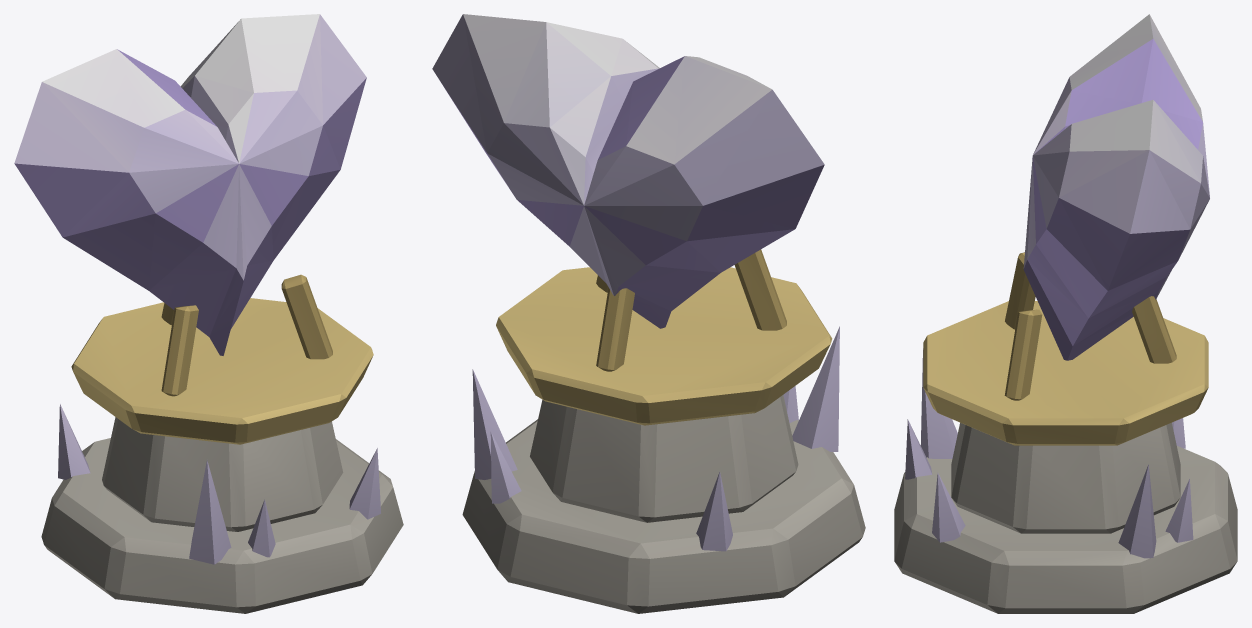
Rendered from crystal-heart.low.glb.
The picture shows the model from 3 angles, left to right: view 1: azimuth 30°, elevation 25°; view 2: azimuth 150°, elevation 25°; view 3: azimuth 270°, elevation 25°; orthographic projection. The views are drawn at different scales.
Parts seen in each view (by area): view 1: crystal-heart; view 2: crystal-heart; view 3: crystal-heart.
Part boxes in pixels (bbox=[...]): crystal-heart: bbox=[14, 14, 403, 613]; crystal-heart: bbox=[432, 14, 865, 613]; crystal-heart: bbox=[894, 14, 1237, 613].
Bounding box in the file's own units: 0.78 × 1 × 0.6562.
